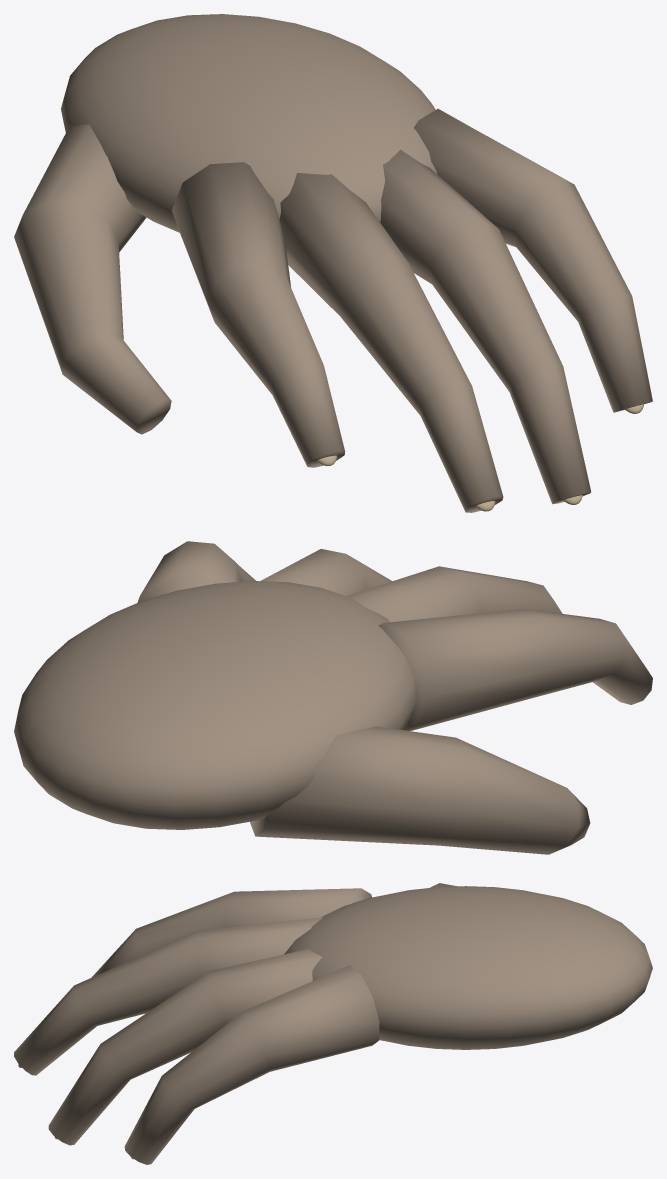
File: search-hand.glb
The picture shows the model from 3 angles, top to bottom: view 1: azimuth 30°, elevation 25°; view 2: azimuth 150°, elevation 25°; view 3: azimuth 270°, elevation 25°; orthographic projection. The views are drawn at different scales.
Parts seen in each view (by area): view 1: SearchHand; view 2: SearchHand; view 3: SearchHand.
Boxes of the visible parts, left/top/right/bottom form: SearchHand: left=14, top=14, right=652, bottom=512; SearchHand: left=14, top=541, right=652, bottom=854; SearchHand: left=14, top=883, right=652, bottom=1164.
Size of the model in its own units: 0.1755 by 0.0983 by 0.27.
